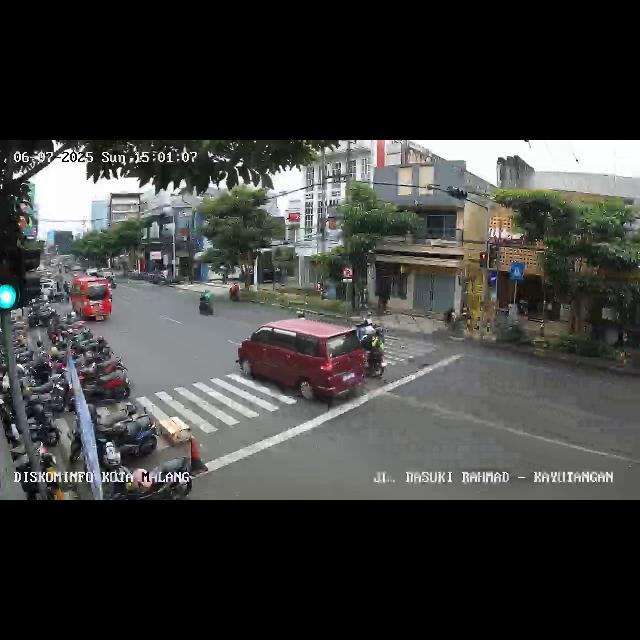car: (237, 318, 375, 409), (70, 277, 114, 323)
motorcycle: (354, 318, 388, 376), (197, 286, 217, 318), (228, 280, 242, 304)
